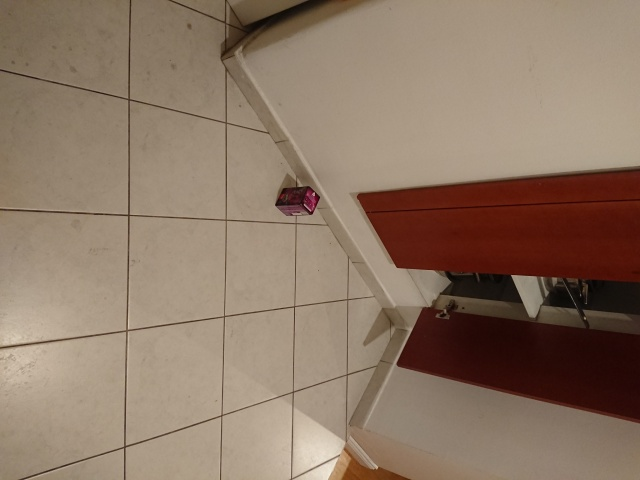Franck Black Currant Tea 60g: (273, 185, 322, 217)
